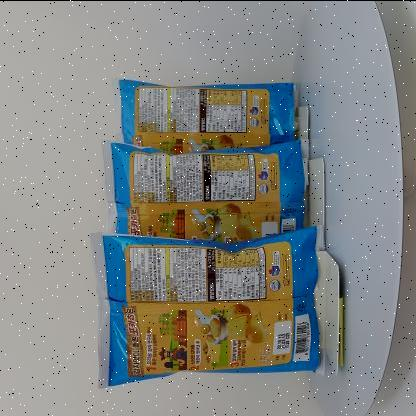Others: (82, 69, 338, 394)
